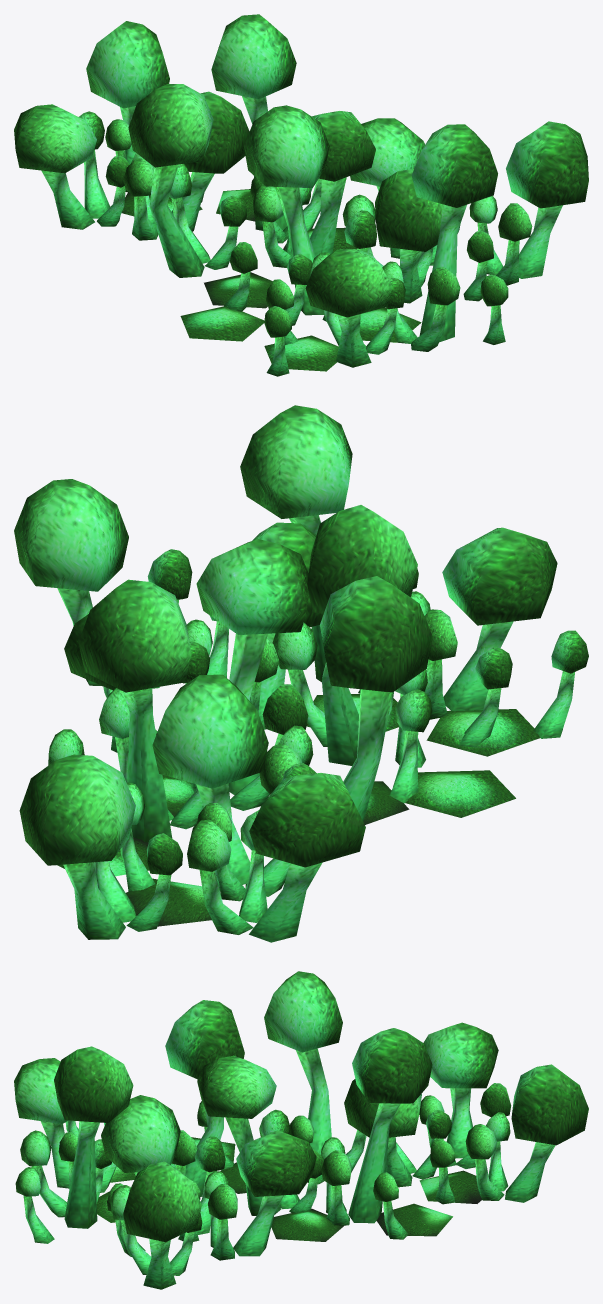
The model's file is mushroom bed 3.fbx.
3 views of the same model, one above another, from view 1: azimuth 30°, elevation 25°; view 2: azimuth 150°, elevation 25°; view 3: azimuth 270°, elevation 25° (orthographic). The views are drawn at different scales.
Parts seen in each view (by area): view 1: mushroom_bed_3; view 2: mushroom_bed_3; view 3: mushroom_bed_3.
Boxes of the visible parts, bbox=[...] form: mushroom_bed_3: bbox=[14, 14, 588, 376]; mushroom_bed_3: bbox=[14, 405, 588, 942]; mushroom_bed_3: bbox=[14, 971, 588, 1289].
Size of the model in its own units: 0.8813 by 0.3947 by 1.13.
